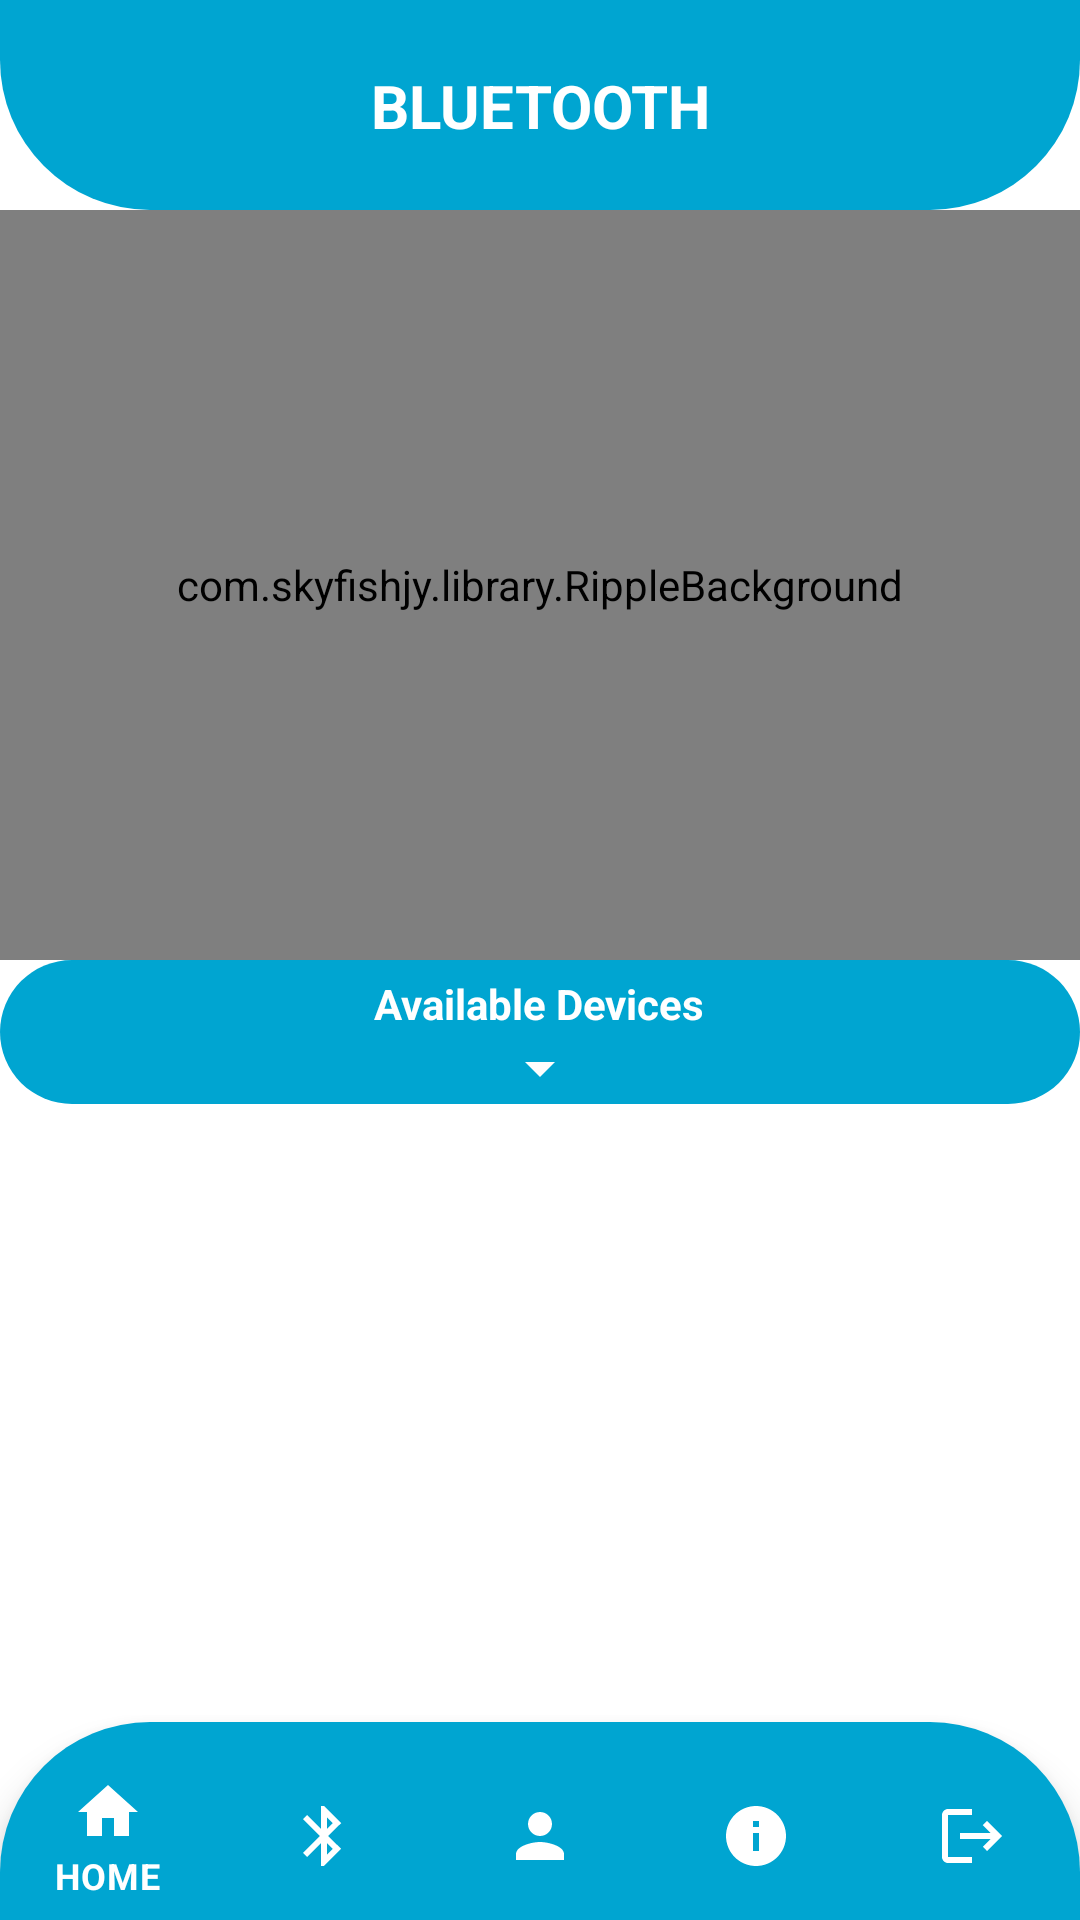

Icon click points for this 1080 × 1920 phone screenshot, format (x,y):
arrow drop down: (540,1069)
